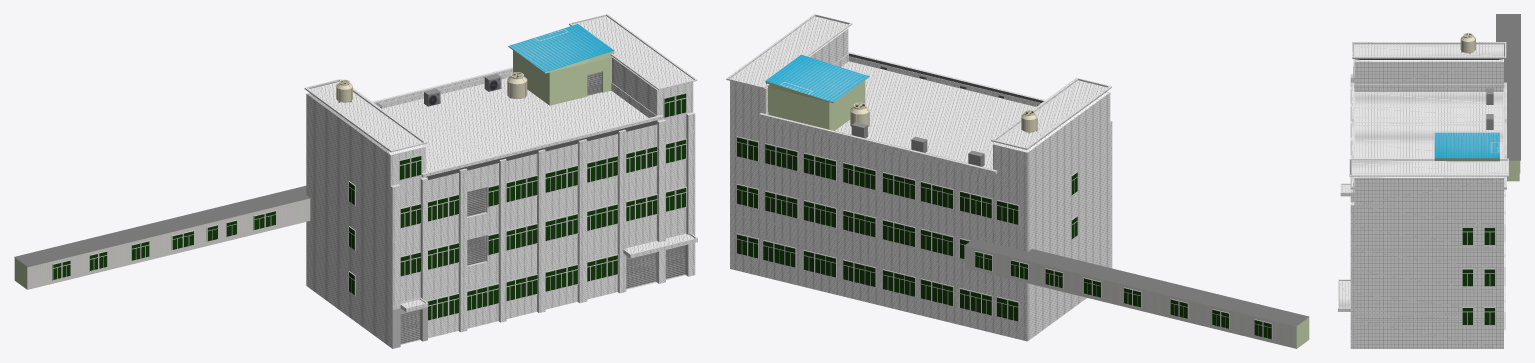
Rendered from 富士山.fbx.
The picture shows the model from 3 angles, left to right: view 1: azimuth 30°, elevation 25°; view 2: azimuth 150°, elevation 25°; view 3: azimuth 270°, elevation 25°; orthographic projection. The views are drawn at different scales.
Visible parts, largest first — view 1: 富士山大樓本體, 空中走廊; view 2: 富士山大樓本體, 空中走廊; view 3: 富士山大樓本體, 空中走廊, 水塔.011, 窗戶.267, 窗戶.265, 窗戶.266, 窗戶.268, 窗戶.269, 窗戶.270.
Boxes of the visible parts, left/top/right/bottom form: 富士山大樓本體: left=304, top=14, right=697, bottom=348; 空中走廊: left=14, top=185, right=310, bottom=289; 富士山大樓本體: left=726, top=14, right=1112, bottom=341; 空中走廊: left=964, top=239, right=1309, bottom=348; 富士山大樓本體: left=1338, top=42, right=1508, bottom=348; 空中走廊: left=1496, top=14, right=1520, bottom=181; 水塔.011: left=1460, top=33, right=1475, bottom=54; 窗戶.267: left=1484, top=268, right=1495, bottom=287; 窗戶.265: left=1484, top=227, right=1495, bottom=245; 窗戶.266: left=1462, top=227, right=1473, bottom=245; 窗戶.268: left=1462, top=268, right=1473, bottom=287; 窗戶.269: left=1484, top=307, right=1495, bottom=325; 窗戶.270: left=1462, top=307, right=1473, bottom=325.
Bounding box in the file's own units: 4966 × 1731 × 1507.
14 materials, 5 textured.
